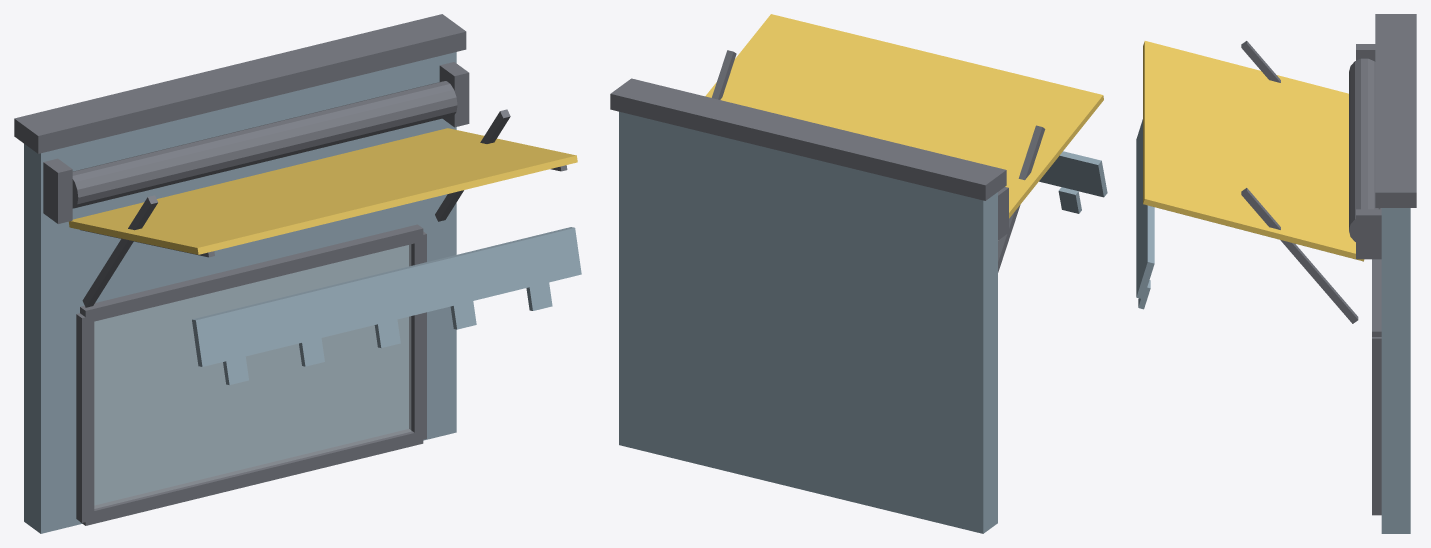
Rendered from animated-mechanisms-kit-awning-unfurl-381fad8e__24647.glb.
3 views of the same model, side by side, from view 1: azimuth 30°, elevation 25°; view 2: azimuth 150°, elevation 25°; view 3: azimuth 270°, elevation 25° (orthographic). The views are drawn at different scales.
Visible parts, largest first — view 1: awning-unfurl, awning/accent, awning/paint, awning/iron; view 2: awning-unfurl, awning/accent, awning/paint, awning/iron; view 3: awning/accent, awning-unfurl, awning/paint, awning/iron.
Boxes of the visible parts, left/top/right/bottom form: awning-unfurl: left=14, top=14, right=469, bottom=533; awning/accent: left=69, top=128, right=577, bottom=254; awning/paint: left=192, top=227, right=581, bottom=384; awning/iron: left=80, top=109, right=567, bottom=307; awning-unfurl: left=610, top=78, right=1008, bottom=533; awning/accent: left=705, top=14, right=1103, bottom=218; awning/paint: left=1039, top=151, right=1107, bottom=213; awning/iron: left=711, top=50, right=1045, bottom=272; awning/accent: left=1143, top=41, right=1364, bottom=261; awning-unfurl: left=1349, top=14, right=1416, bottom=533; awning/paint: left=1136, top=119, right=1154, bottom=309; awning/iron: left=1241, top=41, right=1363, bottom=323.
Size of the model in its own units: 3.5 by 3.14 by 2.32.
